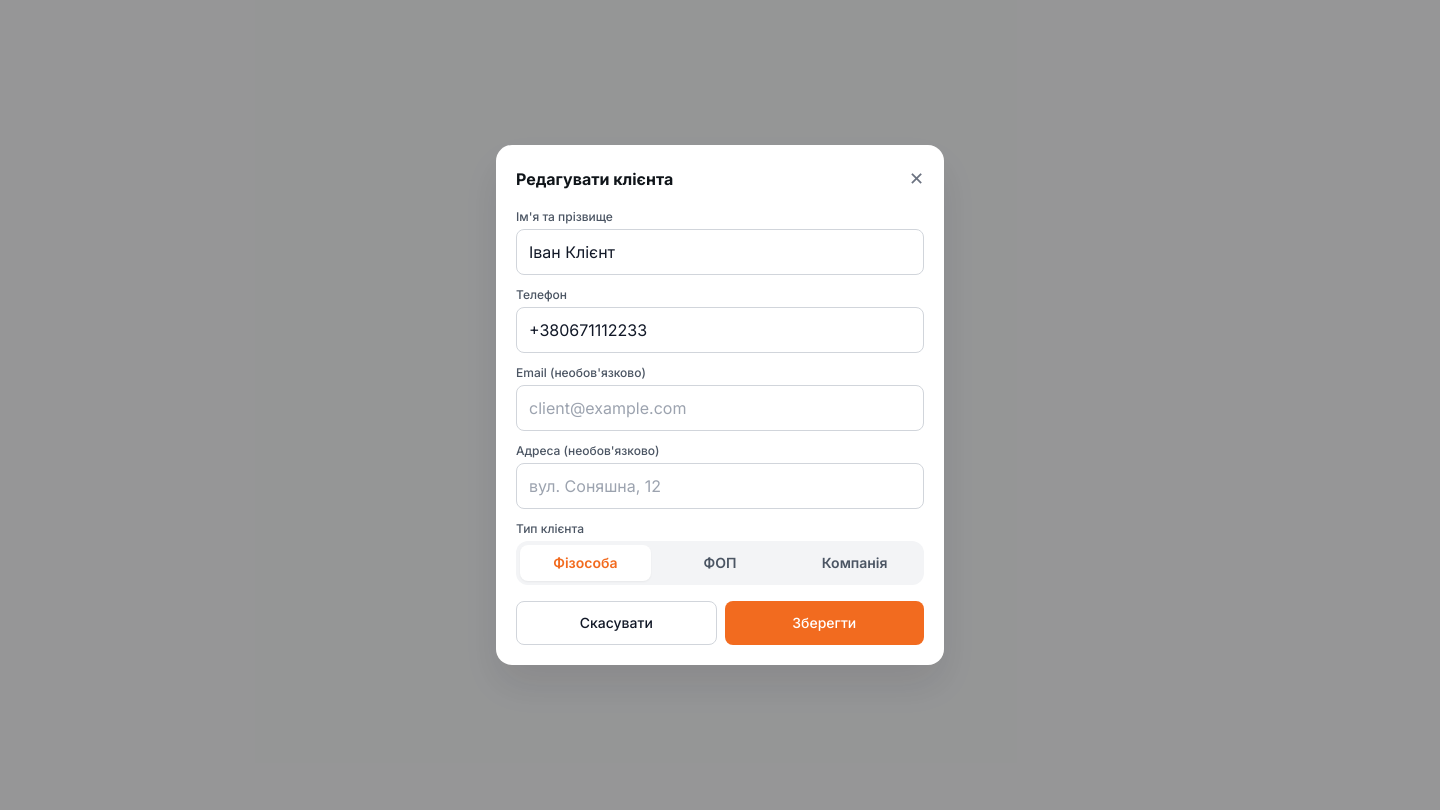
Test: ClientEditModal — type switch reveals requisites › switching to ФОП labels the tax id as РНОКПП
What coordinates should you click on to do the following:
click the button "ФОП"
I would click on:
 (720, 563)
Its box is [655, 545, 785, 581].
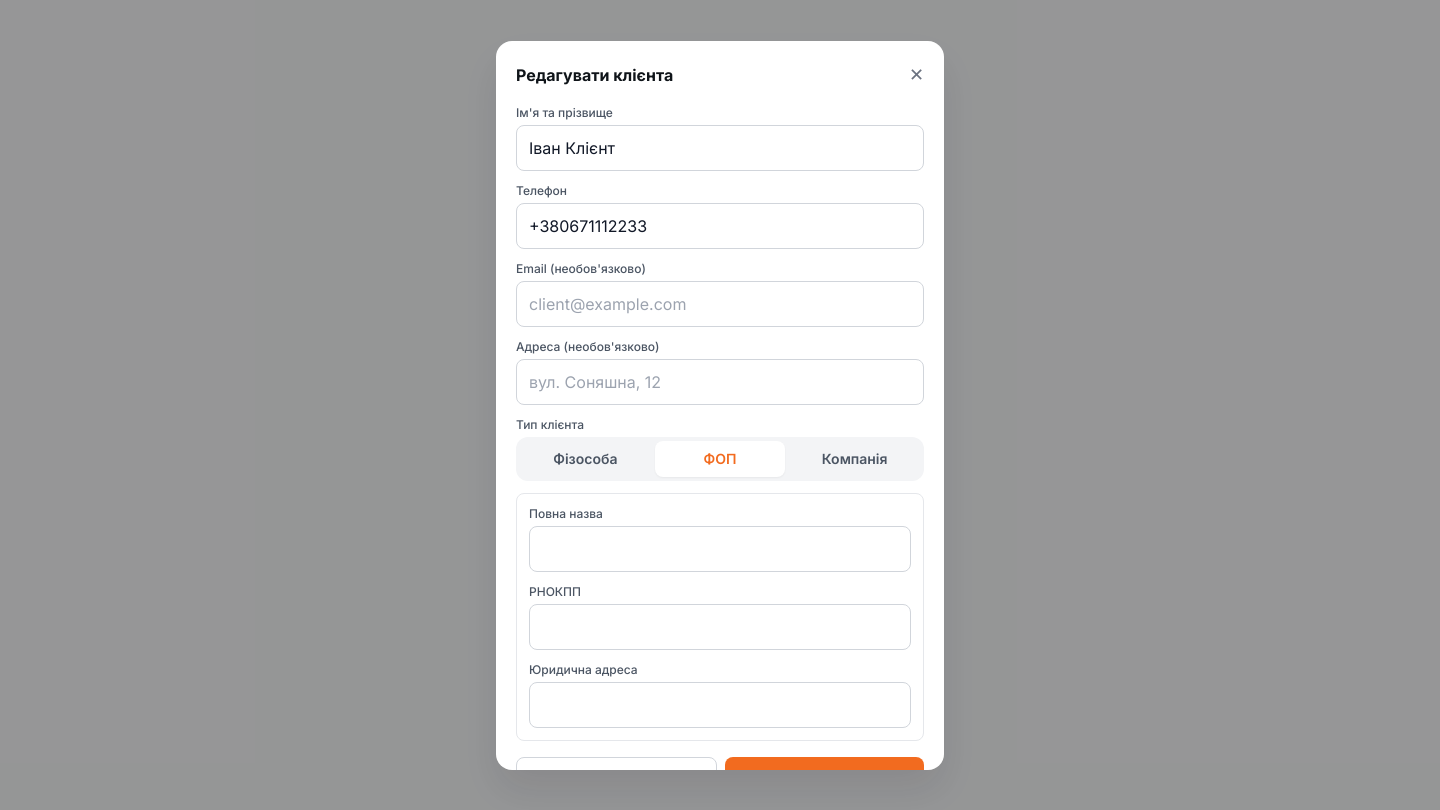
Check: the text "РНОКПП" is shown, box [529, 584, 581, 598]
